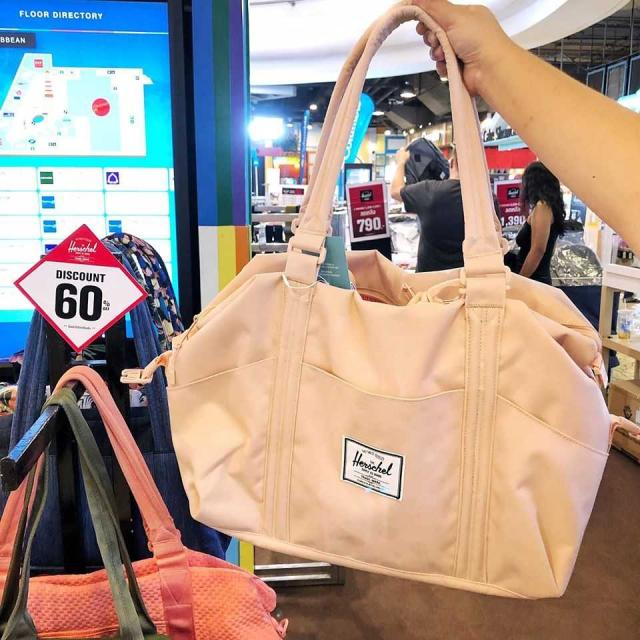Handbag: (144, 228, 612, 608)
